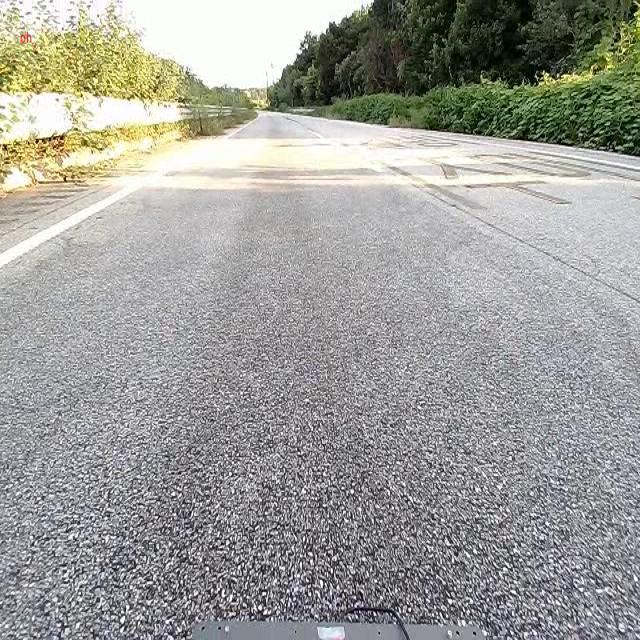Lane: (2, 170, 144, 277), (0, 180, 144, 277)
